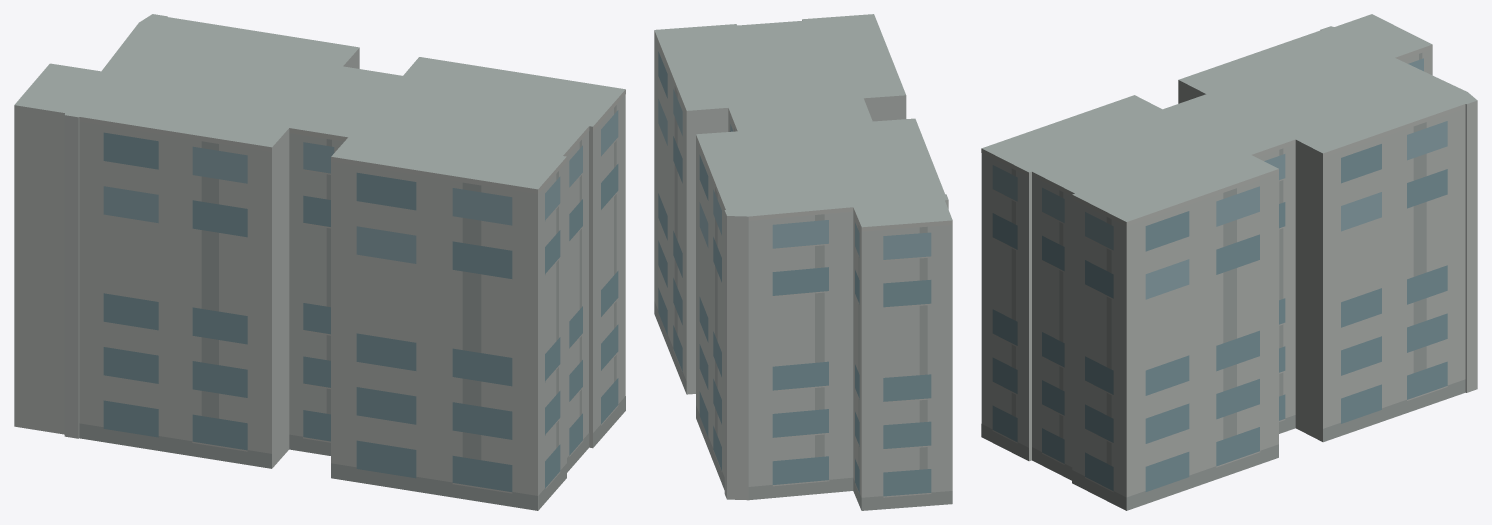
Rendered from survey-upis-32833988.glb.
3 views of the same model, side by side, from view 1: azimuth 30°, elevation 25°; view 2: azimuth 150°, elevation 25°; view 3: azimuth 270°, elevation 25° (orthographic). The views are drawn at different scales.
Visible parts, largest first — view 1: survey-upis-32833988.tmp; view 2: survey-upis-32833988.tmp; view 3: survey-upis-32833988.tmp.
Part boxes in pixels (<box>): survey-upis-32833988.tmp: <box>14,14,625,510</box>; survey-upis-32833988.tmp: <box>654,14,952,510</box>; survey-upis-32833988.tmp: <box>981,14,1477,510</box>.
Size of the model in its own units: 23.97 by 15.5 by 24.14.
